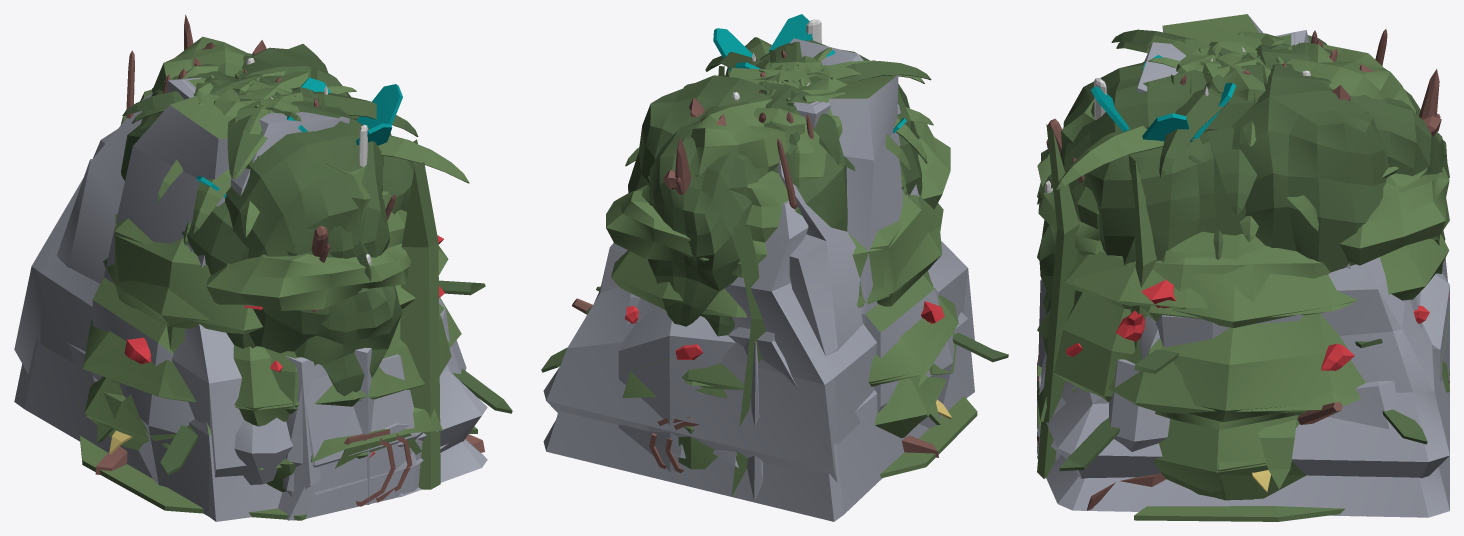
Rendered from nature.glb.
3 renders of one model, left to right at view 1: azimuth 30°, elevation 25°; view 2: azimuth 150°, elevation 25°; view 3: azimuth 270°, elevation 25°, orthographic. The views are drawn at different scales.
Visible parts, largest first — view 1: Rock_Moss_2, Willow_2, Rock_3, Rock_Moss_3, BushBerries_2, Bush_2, CommonTree_1, Grass_Short, Rock_2, Willow_4, Willow_5, Rock_5 (+19 smaller); view 2: Rock_3, Rock_Moss_3, Rock_Moss_2, Willow_5, BushBerries_2, Willow_4, Rock_2, CommonTree_1, CommonTree_5, Bush_2, Rock_7, Rock_Moss_7 (+17 smaller); view 3: Willow_4, BushBerries_2, Rock_3, Rock_Moss_3, Bush_2, Bush_1, CommonTree_1, Grass_Short, Willow_2, BushBerries_1, Willow_5, Rock_Moss_2 (+19 smaller).
Boxes of the visible parts, x1,y1,x2,y2 form: Rock_Moss_2: [92, 94, 466, 486]; Willow_2: [225, 74, 389, 353]; Rock_3: [14, 129, 487, 477]; Rock_Moss_3: [14, 338, 487, 521]; BushBerries_2: [83, 218, 443, 470]; Bush_2: [82, 214, 461, 468]; CommonTree_1: [140, 89, 410, 310]; Grass_Short: [121, 115, 440, 489]; Rock_2: [56, 93, 349, 283]; Willow_4: [121, 44, 414, 348]; Willow_5: [249, 53, 402, 396]; Rock_5: [285, 354, 423, 467]; Rock_3: [543, 184, 974, 482]; Rock_Moss_3: [543, 312, 974, 521]; Rock_Moss_2: [626, 74, 954, 428]; Willow_5: [648, 110, 752, 326]; BushBerries_2: [611, 218, 955, 438]; Willow_4: [628, 74, 922, 231]; Rock_2: [777, 38, 900, 355]; CommonTree_1: [606, 121, 950, 277]; CommonTree_5: [641, 72, 847, 205]; Bush_2: [586, 192, 958, 422]; Rock_7: [618, 307, 735, 373]; Rock_Moss_7: [618, 358, 707, 472]; Willow_4: [1060, 64, 1388, 272]; BushBerries_2: [1066, 231, 1449, 499]; Rock_3: [1046, 257, 1449, 478]; Rock_Moss_3: [1037, 454, 1449, 517]; Bush_2: [1108, 302, 1361, 500]; Bush_1: [1042, 249, 1248, 401]; CommonTree_1: [1037, 149, 1449, 265]; Grass_Short: [1037, 124, 1156, 478]; Willow_2: [1061, 46, 1271, 192]; BushBerries_1: [1037, 245, 1449, 375]; Willow_5: [1037, 89, 1449, 313]; Rock_Moss_2: [1109, 14, 1422, 451].
Size of the model in its own units: 1 by 1 by 1.
